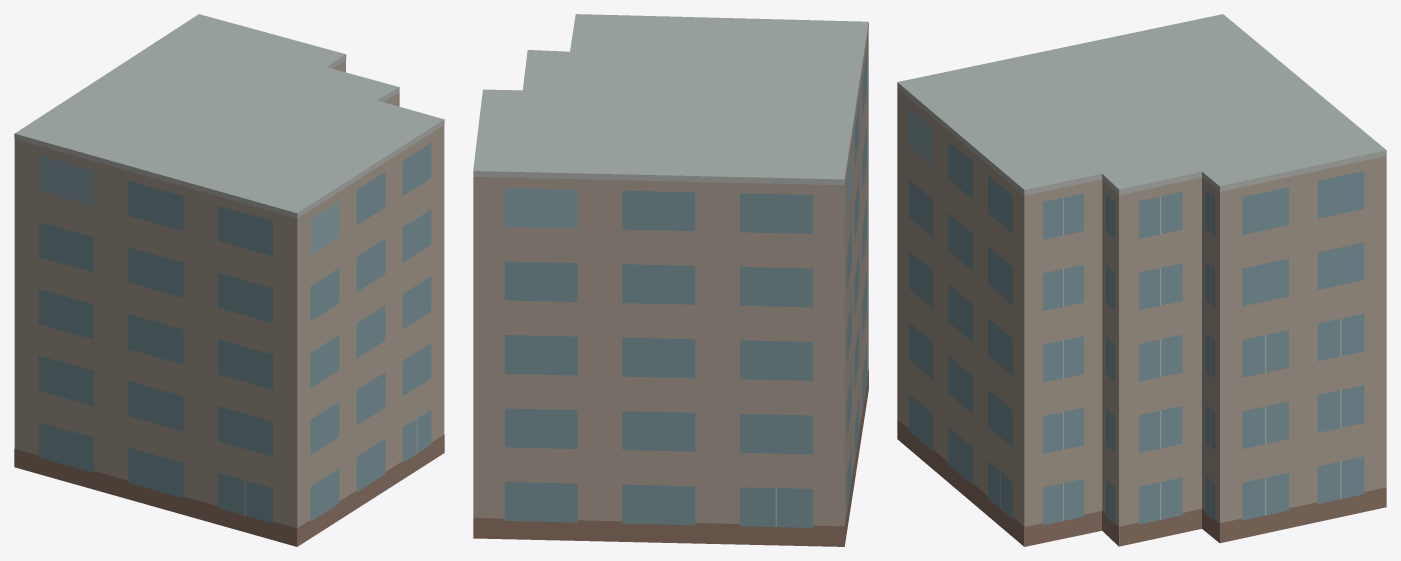
File: survey-upis-32584208.glb
3 views of the same model, side by side, from view 1: azimuth 30°, elevation 25°; view 2: azimuth 150°, elevation 25°; view 3: azimuth 270°, elevation 25° (orthographic). The views are drawn at different scales.
Visible parts, largest first — view 1: survey-upis-32584208.tmp; view 2: survey-upis-32584208.tmp; view 3: survey-upis-32584208.tmp.
Boxes of the visible parts, <box> form: survey-upis-32584208.tmp: <box>14,14,444,546</box>; survey-upis-32584208.tmp: <box>473,14,868,546</box>; survey-upis-32584208.tmp: <box>897,14,1386,546</box>.
Size of the model in its own units: 16.13 by 15.25 by 18.96.
